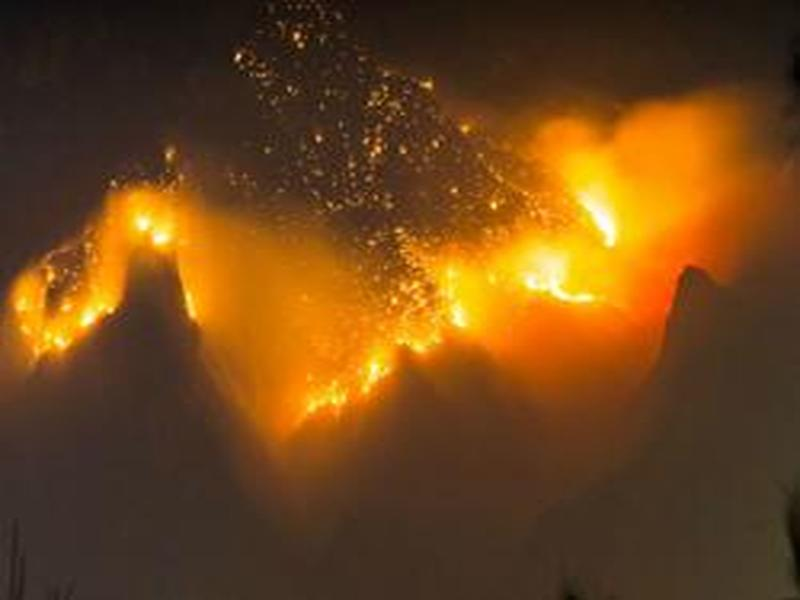FIRE: (37, 142, 736, 450)
